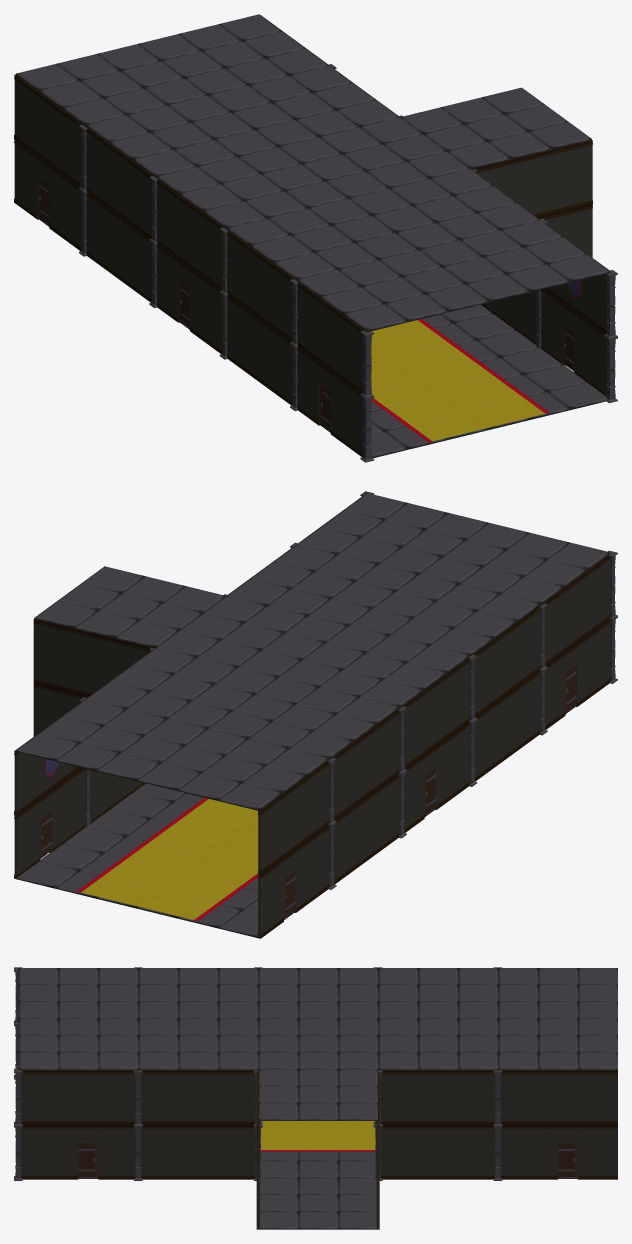
Rendered from CastleModule4.fbx.
3 renders of one model, top to bottom at view 1: azimuth 30°, elevation 25°; view 2: azimuth 150°, elevation 25°; view 3: azimuth 270°, elevation 25°, orthographic. The views are drawn at different scales.
Visible parts, largest first — view 1: CarpetHall.009, CarpetHall, CarpetHall.002, CarpetHall.003, CarpetHall.007, CarpetHall.001, CarpetHall.005, HalfWallHall.358, HalfWallHall.359, HalfWallHall.357, CarpetHall.004, WallDoorHall.004 (+168 smaller); view 2: CarpetHall.024, CarpetHall.025, CarpetHall.022, CarpetHall.028, CarpetHall.026, CarpetHall.027, CarpetHall.020, CarpetHall.023, HalfWallHall.370, HalfWallHall.371, HalfWallHall.369, WallDoorHall.004 (+167 smaller); view 3: WallDoorHall.001, WallDoorHall.005, HalfWallHall.091, HalfWallHall.092, HalfWallHall.095, HalfWallHall.096, HalfWallHall.097, HalfWallHall.098, HalfWallHall.120, HalfWallHall.121, HalfWallHall.031, HalfWallHall.032 (+156 smaller).
Boxes of the visible parts, bbox=[...] form: CarpetHall.009: bbox=[372, 327, 455, 358]; CarpetHall: bbox=[405, 410, 488, 442]; CarpetHall.002: bbox=[381, 393, 465, 424]; CarpetHall.003: bbox=[442, 378, 525, 410]; CarpetHall.007: bbox=[396, 344, 479, 375]; CarpetHall.001: bbox=[466, 395, 549, 427]; CarpetHall.005: bbox=[419, 361, 502, 393]; HalfWallHall.358: bbox=[552, 145, 572, 214]; HalfWallHall.359: bbox=[572, 140, 592, 209]; HalfWallHall.357: bbox=[531, 150, 552, 217]; CarpetHall.004: bbox=[371, 376, 441, 407]; WallDoorHall.004: bbox=[37, 156, 61, 236]; CarpetHall.024: bbox=[123, 840, 207, 871]; CarpetHall.025: bbox=[161, 872, 244, 903]; CarpetHall.022: bbox=[147, 823, 230, 854]; CarpetHall.028: bbox=[77, 874, 160, 906]; CarpetHall.026: bbox=[100, 857, 183, 888]; CarpetHall.027: bbox=[138, 889, 221, 920]; CarpetHall.020: bbox=[170, 806, 254, 837]; CarpetHall.023: bbox=[185, 855, 258, 886]; HalfWallHall.370: bbox=[54, 624, 74, 692]; HalfWallHall.371: bbox=[33, 619, 54, 687]; HalfWallHall.369: bbox=[74, 629, 94, 696]; WallDoorHall.004: bbox=[283, 841, 307, 912]; WallDoorHall.001: bbox=[58, 1125, 98, 1179]; WallDoorHall.005: bbox=[538, 1125, 577, 1179]; HalfWallHall.091: bbox=[38, 1070, 58, 1125]; HalfWallHall.092: bbox=[98, 1070, 118, 1125]; HalfWallHall.095: bbox=[158, 1070, 178, 1125]; HalfWallHall.096: bbox=[178, 1070, 198, 1125]; HalfWallHall.097: bbox=[198, 1070, 218, 1125]; HalfWallHall.098: bbox=[218, 1070, 238, 1125]; HalfWallHall.120: bbox=[58, 1070, 78, 1125]; HalfWallHall.121: bbox=[78, 1070, 98, 1125]; HalfWallHall.031: bbox=[38, 1125, 58, 1179]; HalfWallHall.032: bbox=[98, 1125, 118, 1179].
Size of the model in its own units: 1822 by 610 by 3022.
